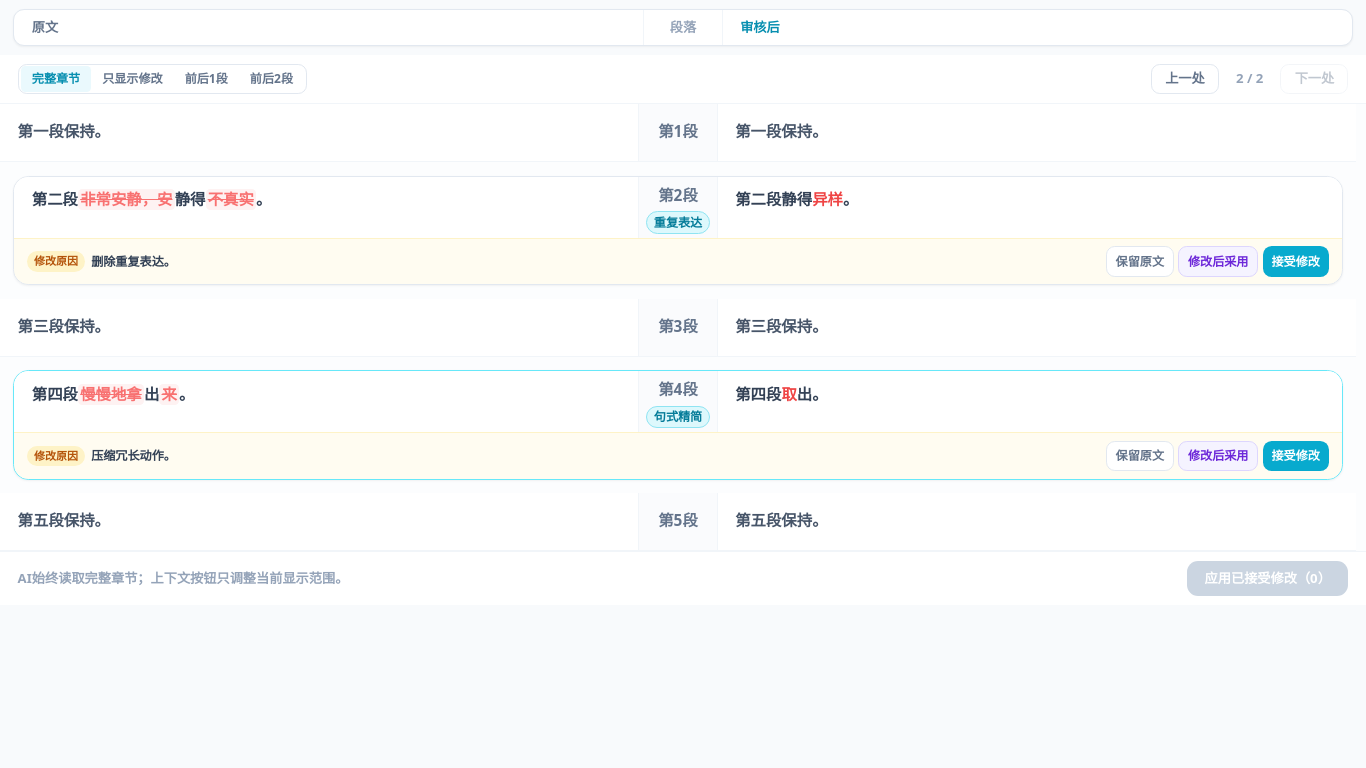
Test case: ChapterTextAuditContinuousReview › keeps the original or adopts a manual revision with undo available
The width and height of the screenshot is (1366, 768).
Click the button "前后1段" at [206, 79], box [174,66,239,92]
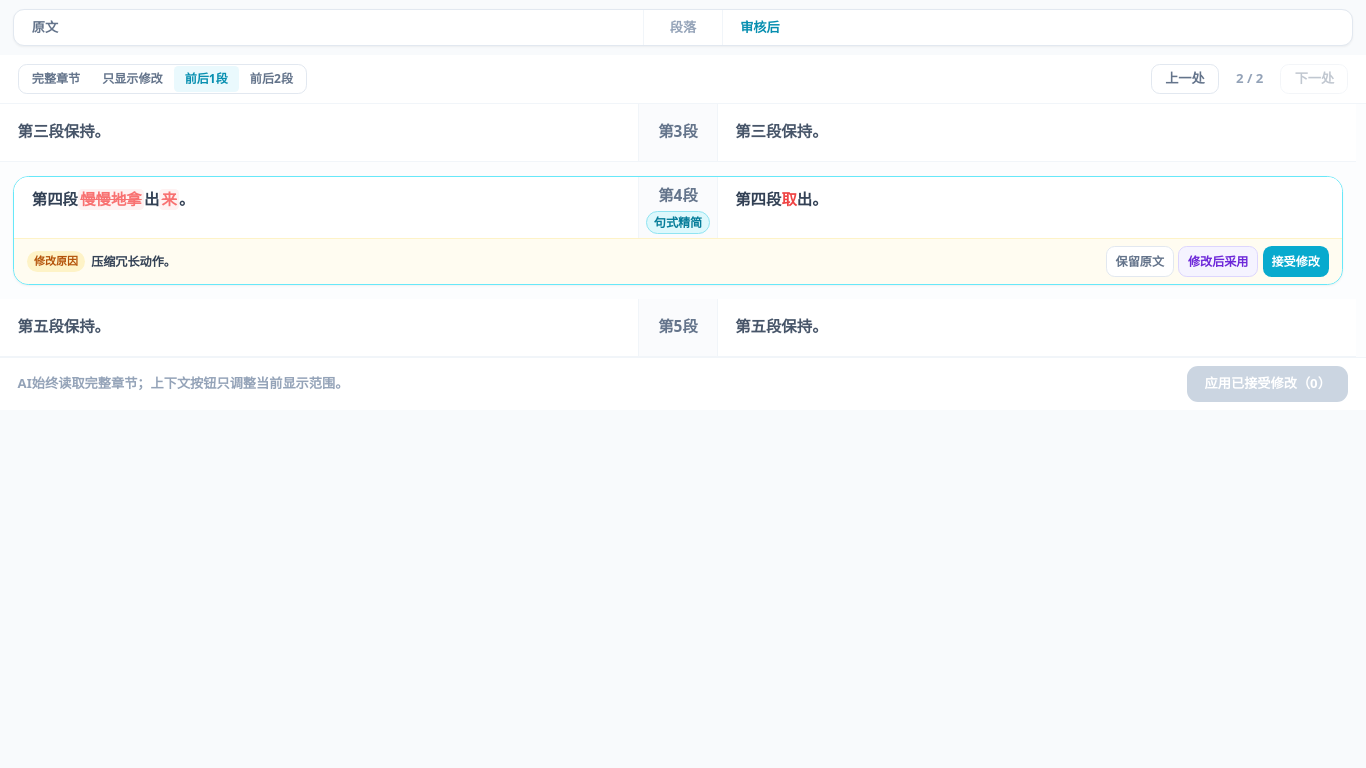
Click the button "保留原文" at [1140, 262], box [1106,246,1174,277]
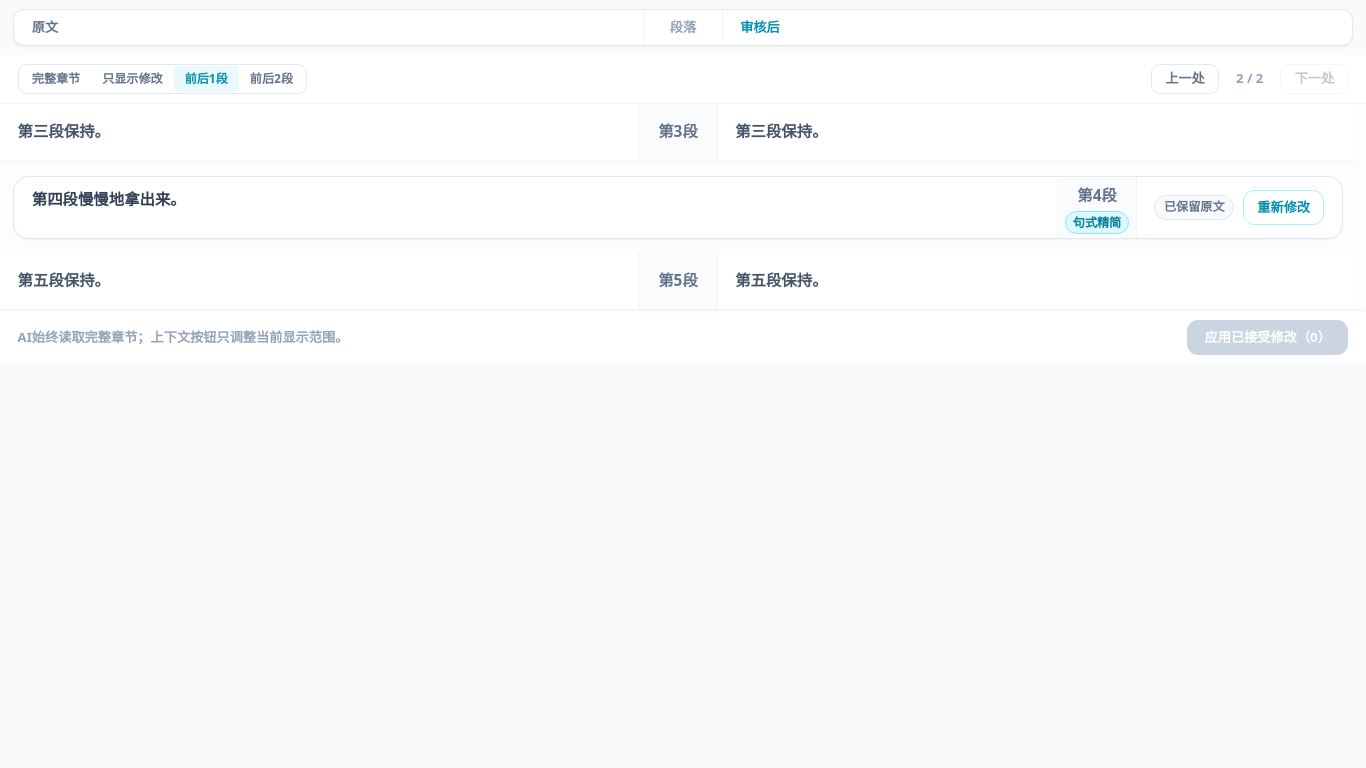
Check: the element showing "第四段慢慢地拿出来。 第4段 句式精简 已保留原文 重新修改" is shown, box [13,176,1343,239]
Check: the text "第四段慢慢地拿出来。" is shown, box [32,189,186,210]
Click the button "重新修改" at [1284, 207], box [1243,190,1324,225]
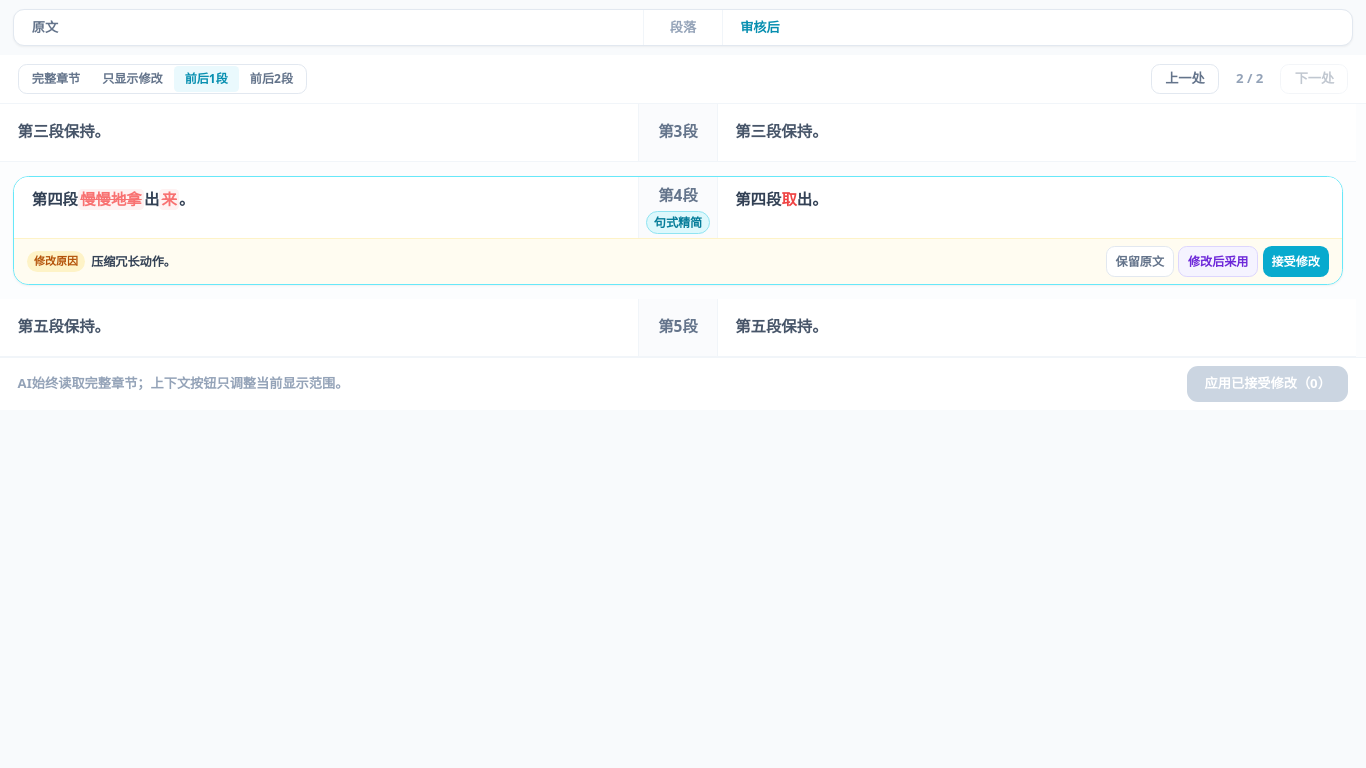
Click the button "修改后采用" at [1218, 262], box [1178,246,1258,277]
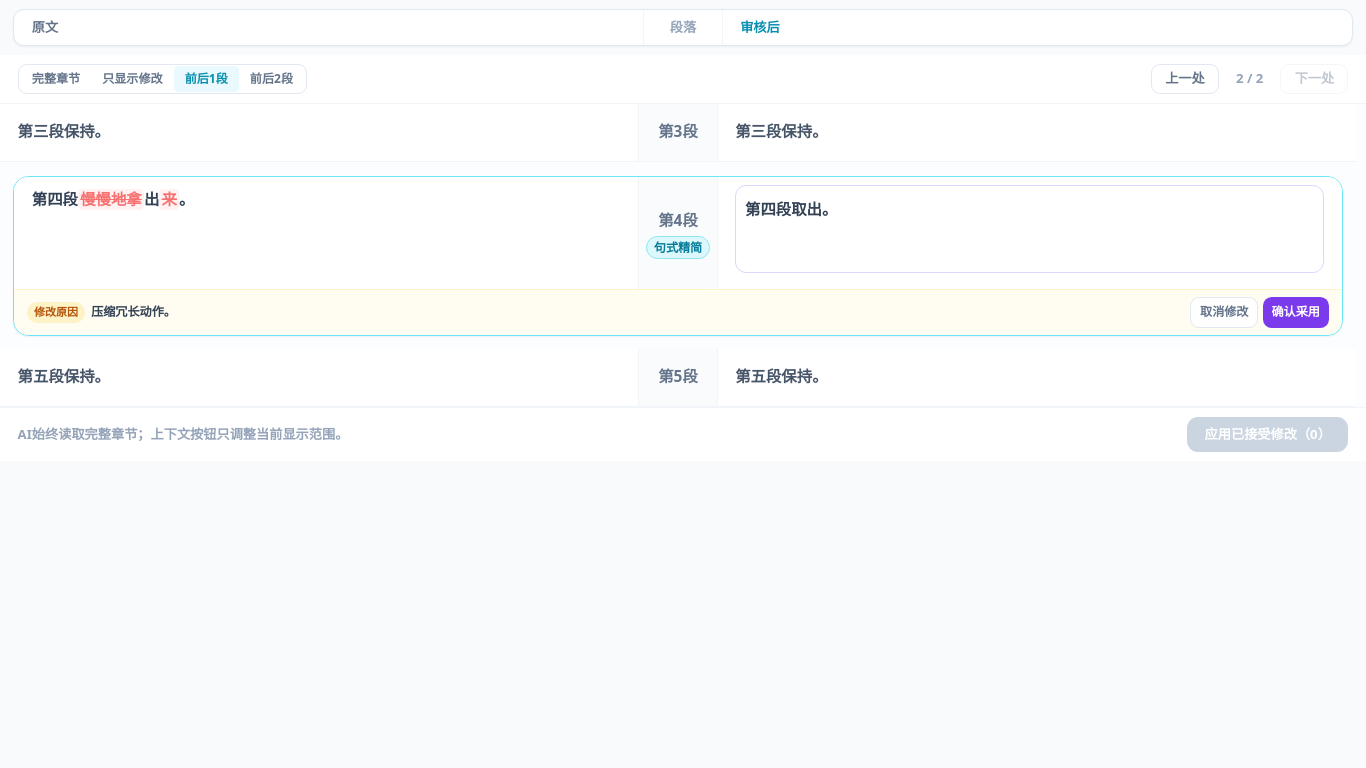
Replace the text in the text box with "第四段伸手取出。" at [1030, 229], box [735,185,1324,273]
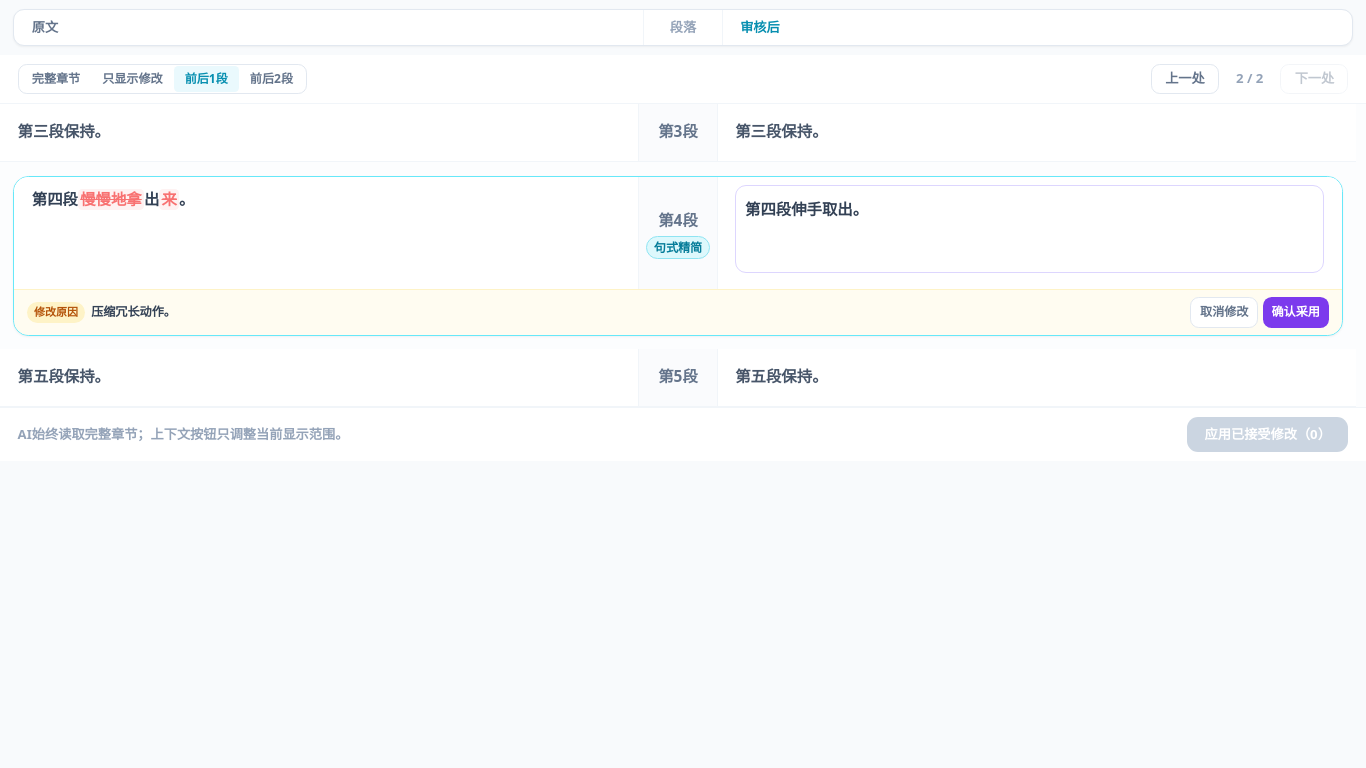
Click the button "确认采用" at [1296, 312], box [1263,297,1329,328]
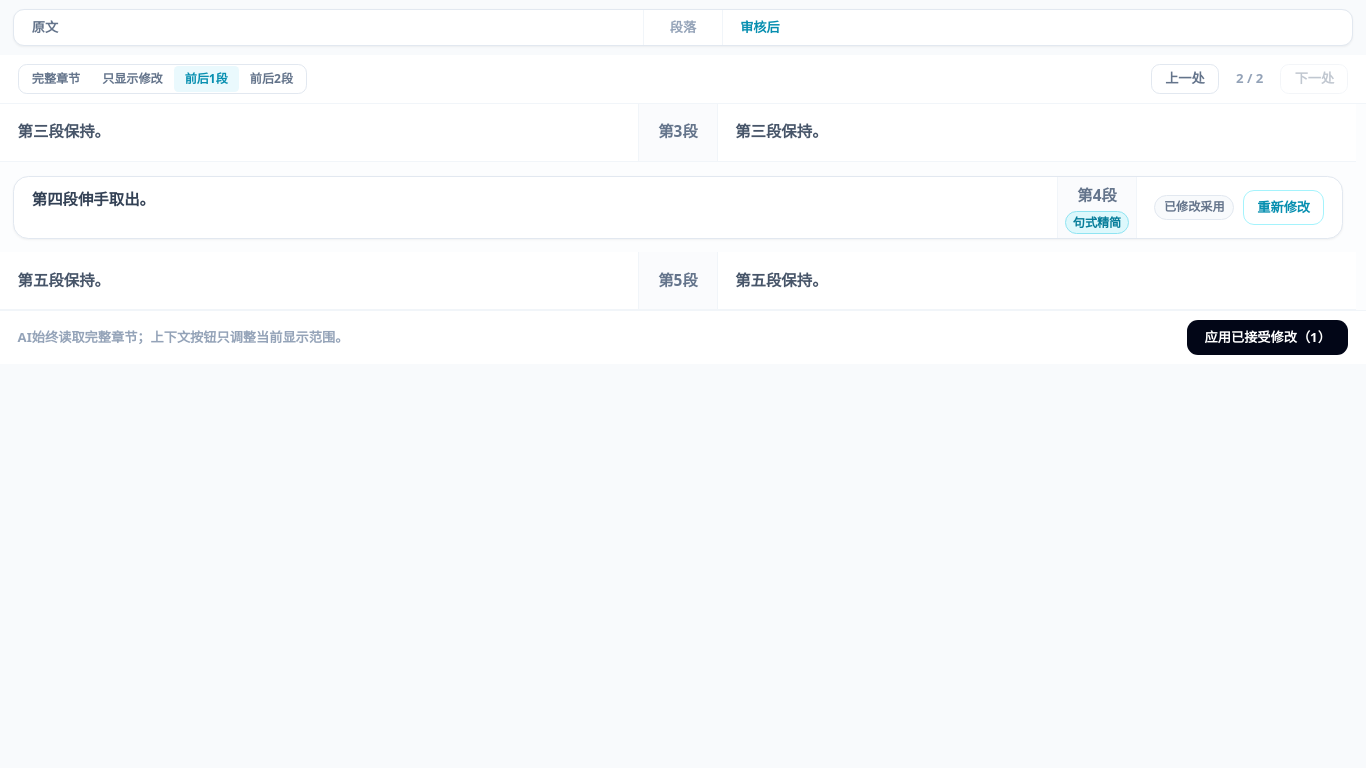
Check: the element showing "第四段伸手取出。 第4段 句式精简 已修改采用 重新修改" is shown, box [13,176,1343,239]
Check: the text "第四段伸手取出。" is shown, box [32,189,155,210]
Check: the button "重新修改" is shown, box [1243,190,1324,225]
